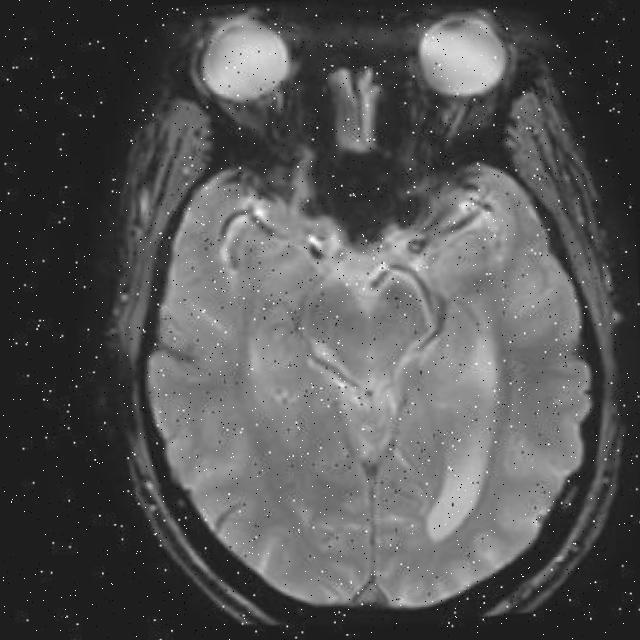EMCI: (298, 141, 449, 259)
